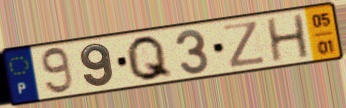3: (174, 27, 210, 76)
9: (41, 44, 77, 98), (77, 40, 116, 89)
H: (264, 12, 312, 64)
Q: (124, 34, 175, 84)
Z: (221, 19, 270, 70)
